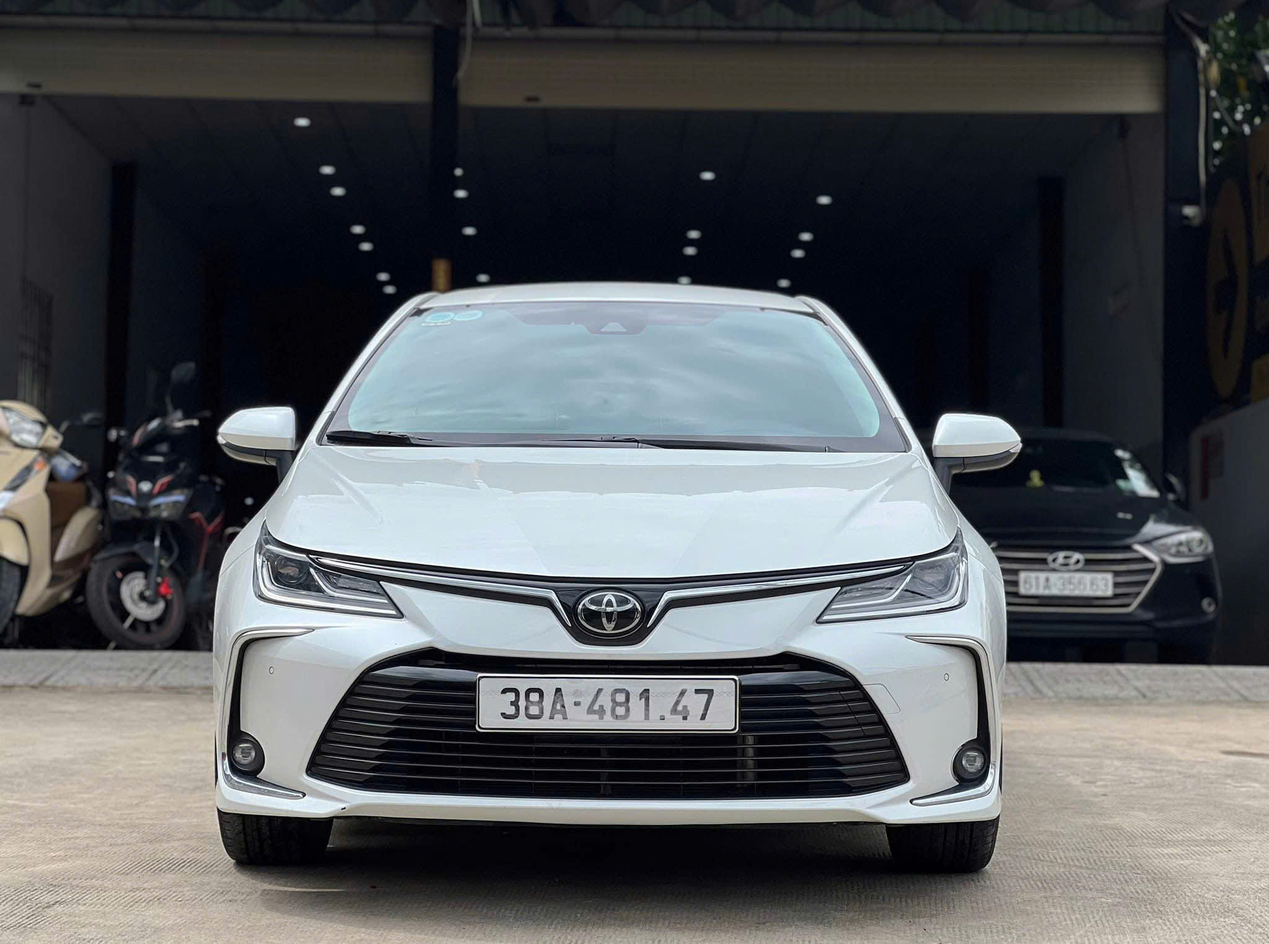Bien-so: (469, 671, 747, 737), (1018, 568, 1117, 597)
